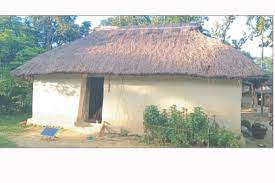Mud House: (20, 25, 265, 144)
